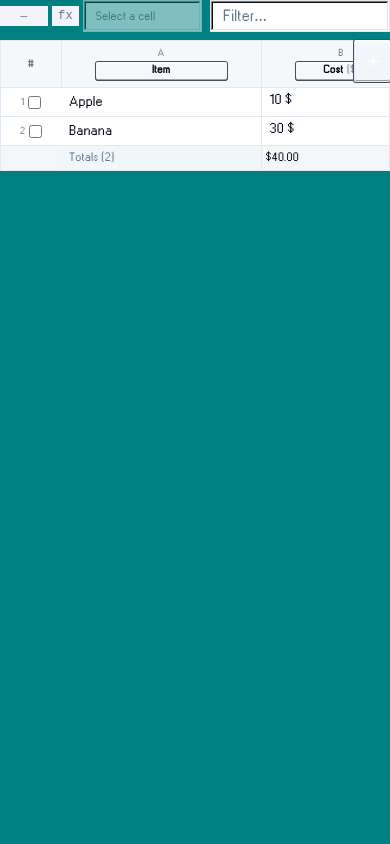
Test: SheetGrid › add column suggests attributes already associated with this list
Click the button titled "Add column".
click(372, 61)  # box [354, 40, 389, 82]
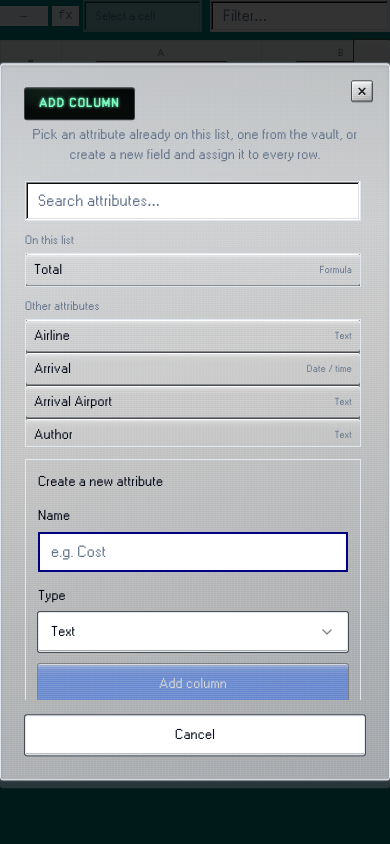
Result: the text "On this list" is shown at [25, 235, 74, 246]
Result: the button "Total Formula" is shown at [26, 254, 360, 286]
